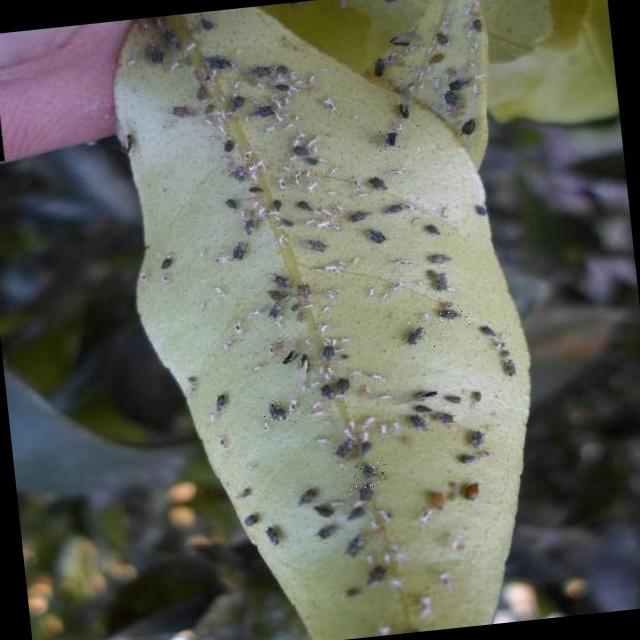aphid: (394, 316, 446, 352), (370, 122, 426, 154), (263, 395, 303, 429), (430, 298, 474, 328), (224, 236, 262, 268), (350, 460, 390, 490), (287, 130, 322, 164), (318, 376, 351, 401), (425, 266, 450, 294), (202, 52, 235, 72), (332, 436, 356, 461), (343, 534, 365, 556), (364, 226, 388, 246), (145, 41, 165, 65), (364, 564, 387, 584), (248, 104, 276, 120), (388, 32, 416, 48), (357, 479, 377, 501), (296, 486, 320, 504), (314, 522, 338, 540), (408, 412, 428, 432), (345, 503, 367, 521), (446, 76, 470, 92), (266, 286, 290, 302), (230, 164, 250, 183), (264, 524, 281, 546), (305, 237, 327, 254), (312, 502, 335, 518), (468, 428, 486, 448), (372, 56, 388, 78), (442, 88, 460, 107), (459, 117, 477, 136), (366, 174, 386, 191), (270, 273, 290, 290), (170, 104, 194, 118), (426, 252, 450, 266), (382, 129, 400, 147), (266, 300, 282, 320), (348, 209, 370, 223), (214, 392, 228, 412), (502, 358, 516, 378), (320, 344, 336, 361), (242, 512, 260, 527), (423, 222, 441, 237), (295, 198, 313, 213), (358, 439, 373, 457), (478, 323, 496, 338), (230, 94, 246, 110), (457, 452, 477, 464), (158, 256, 174, 270), (280, 350, 296, 364), (244, 218, 256, 236), (222, 138, 235, 153), (398, 102, 410, 118)
